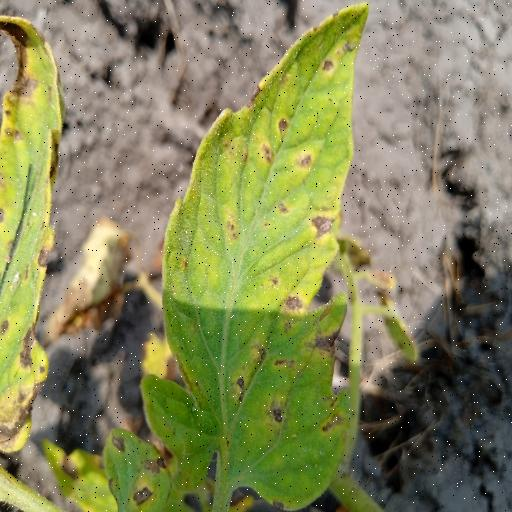Tomato_Brown_Spots: (143, 0, 374, 511)
